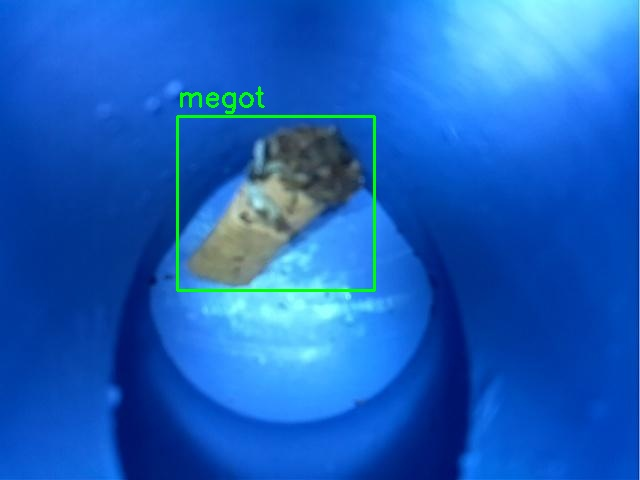megot: (177, 116, 374, 290)
